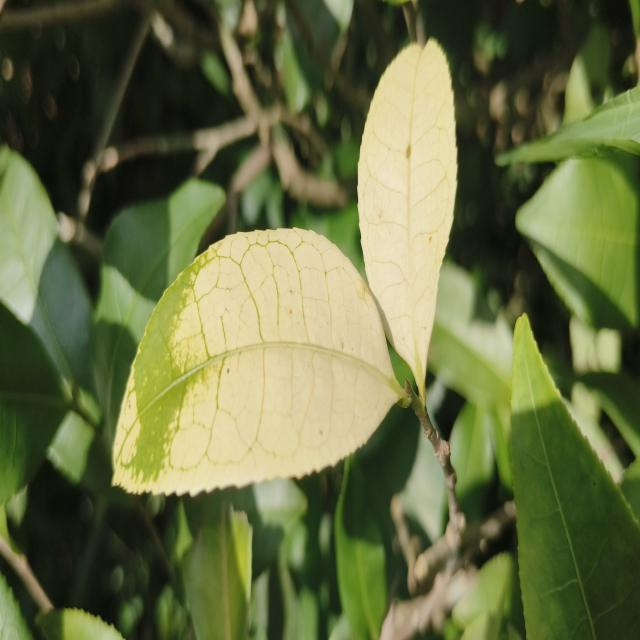Leaf: (114, 229, 403, 494), (511, 314, 640, 640), (358, 39, 457, 400), (94, 179, 224, 432), (0, 146, 94, 391), (516, 152, 640, 329), (0, 304, 67, 504), (428, 263, 513, 406), (334, 455, 387, 640), (182, 506, 252, 640), (449, 403, 494, 523), (563, 22, 610, 126)
